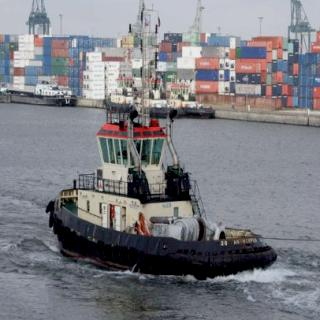Tug Boat: (47, 95, 281, 276)
